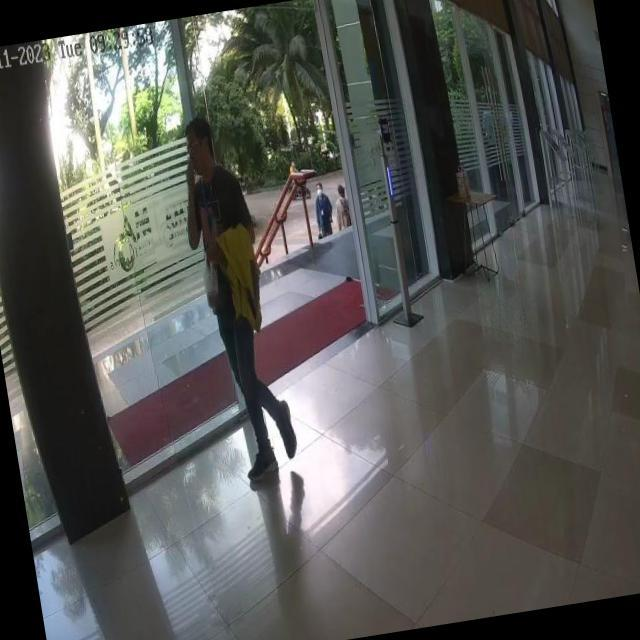person: (170, 112, 302, 490), (312, 181, 338, 242), (334, 184, 355, 236)
